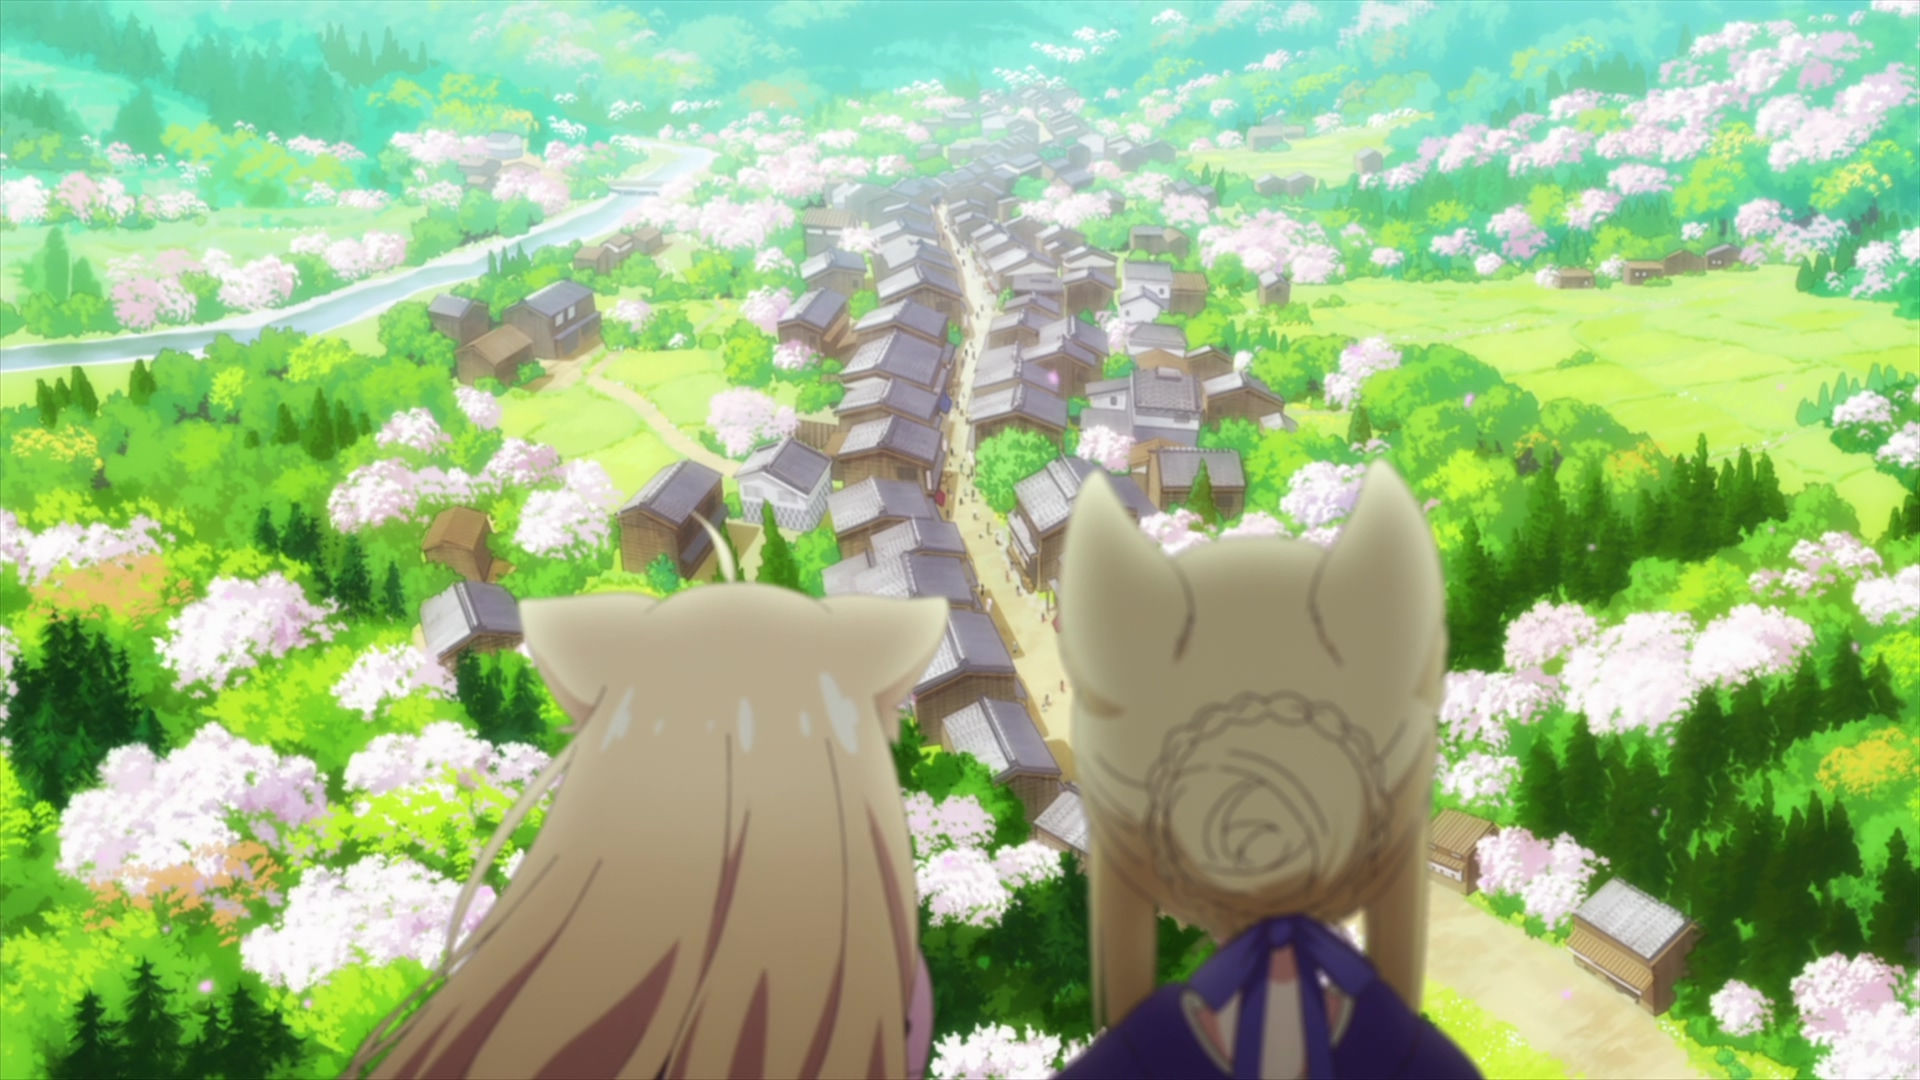柚: (338, 508, 951, 1080)
桐: (1054, 460, 1486, 1080)
